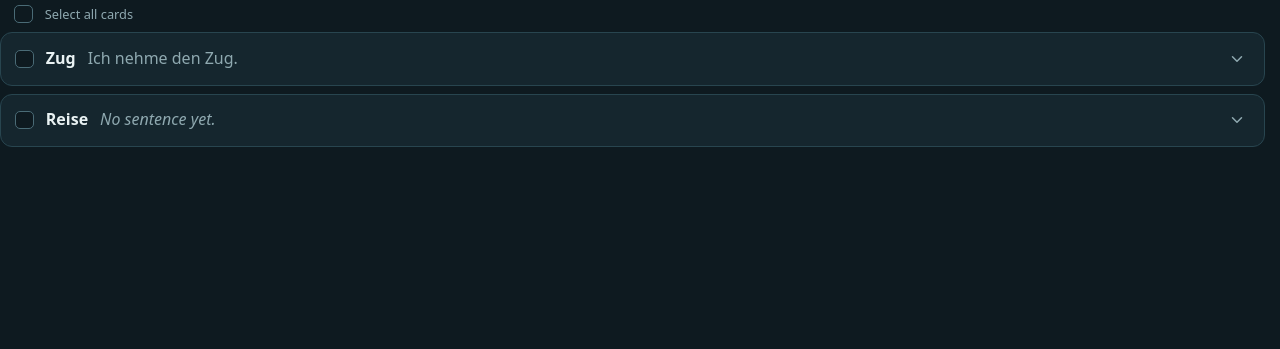
Test: an opened card shows the texts it came from, which open the text, like its decks, and the line does not
The width and height of the screenshot is (1280, 349).
Click the button with class "card-main" showing "Zug Ich nehme den Zug." at (163, 58), box [46, 43, 1168, 75]
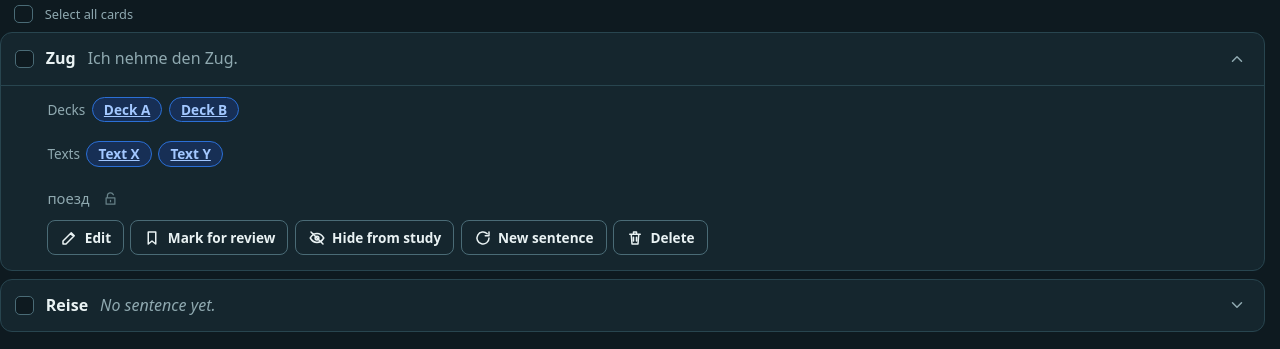
Check: the text "Texts" is shown, box [47, 143, 80, 165]
